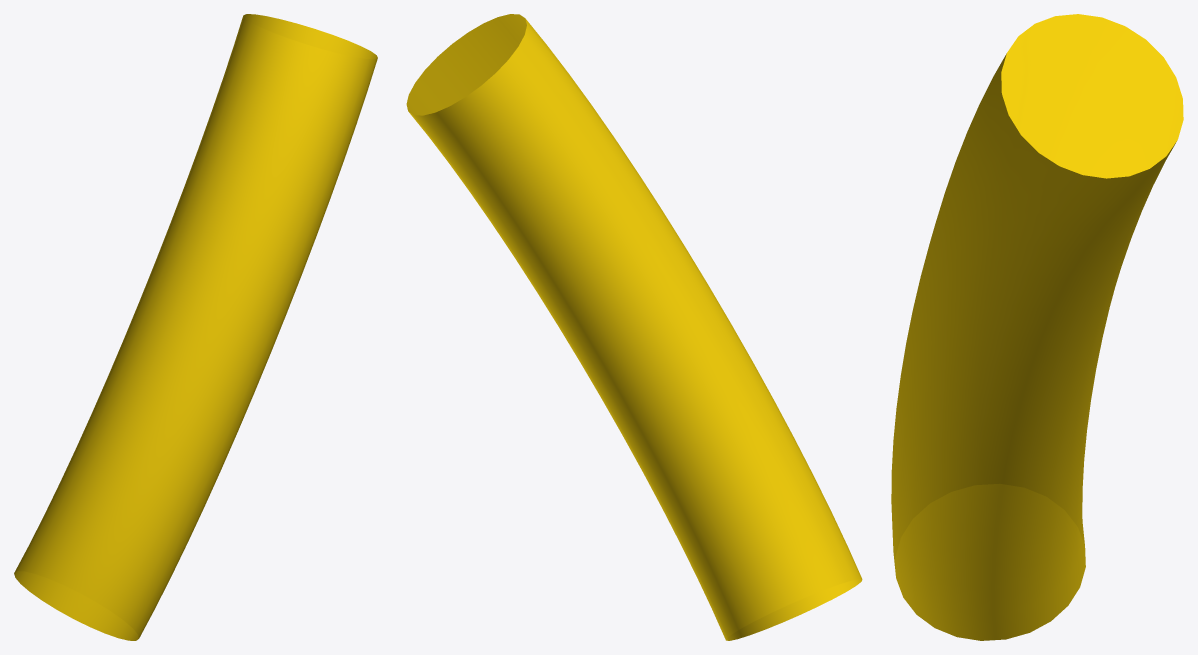
File: Event_421364160_track_54.fbx
3 renders of one model, left to right at view 1: azimuth 30°, elevation 25°; view 2: azimuth 150°, elevation 25°; view 3: azimuth 270°, elevation 25°, orthographic. The views are drawn at different scales.
Visible parts, largest first — view 1: Model; view 2: Model; view 3: Model.
Part boxes in pixels (x1,y1,x2,y2): Model: (14, 14, 377, 640); Model: (406, 14, 862, 640); Model: (891, 14, 1183, 640).
Size of the model in its own units: 0.1231 by 0.1705 by 0.0609.
